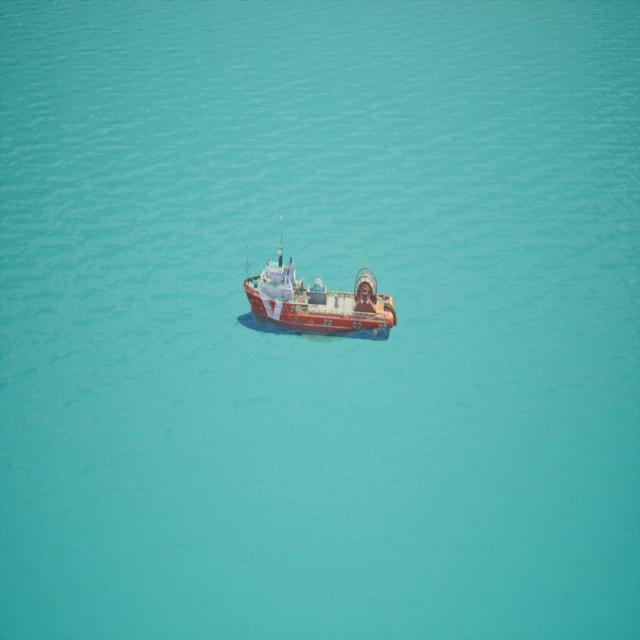tug boat: (241, 214, 404, 343)
